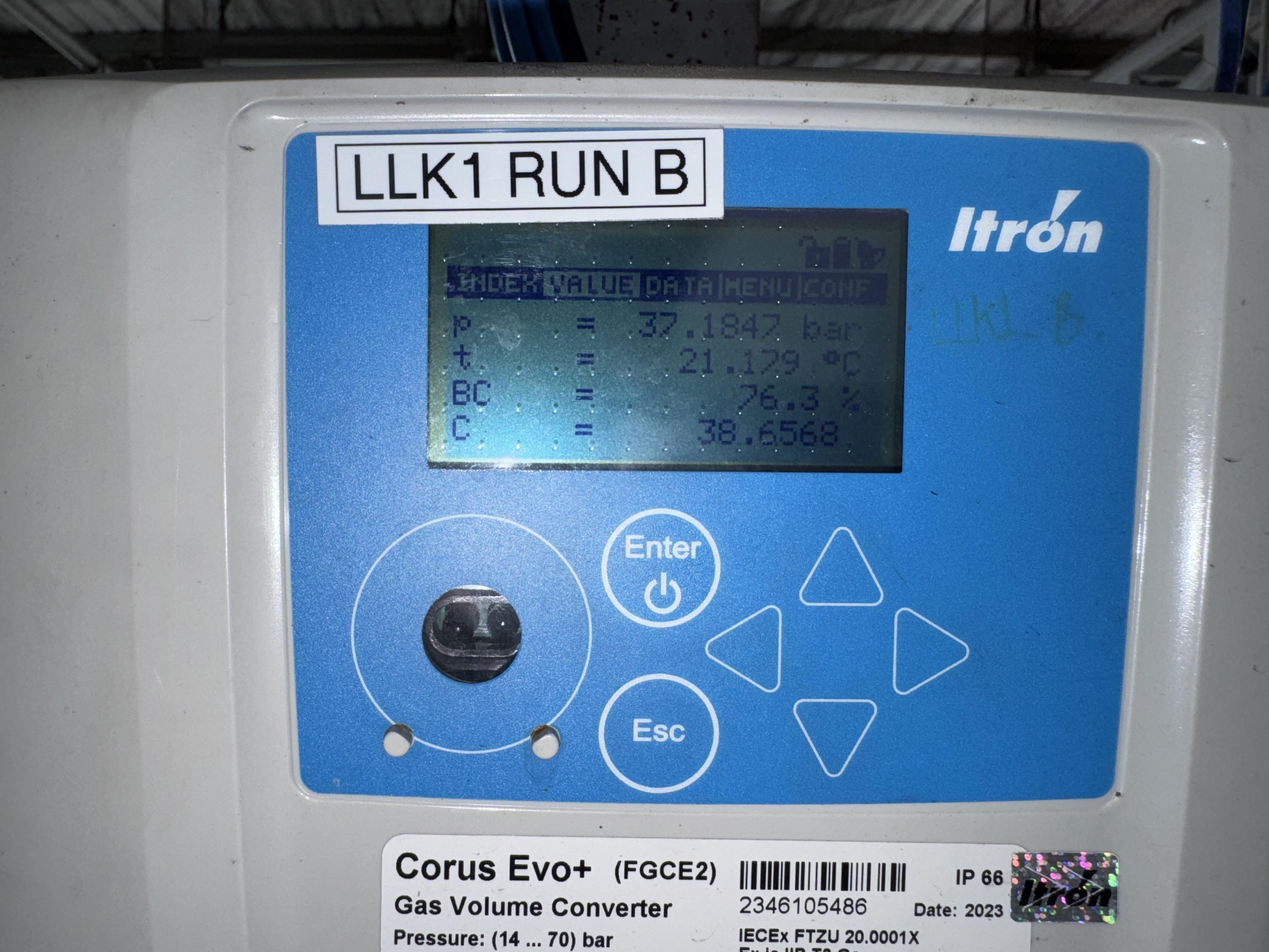digital_screen: (428, 208, 909, 473)
